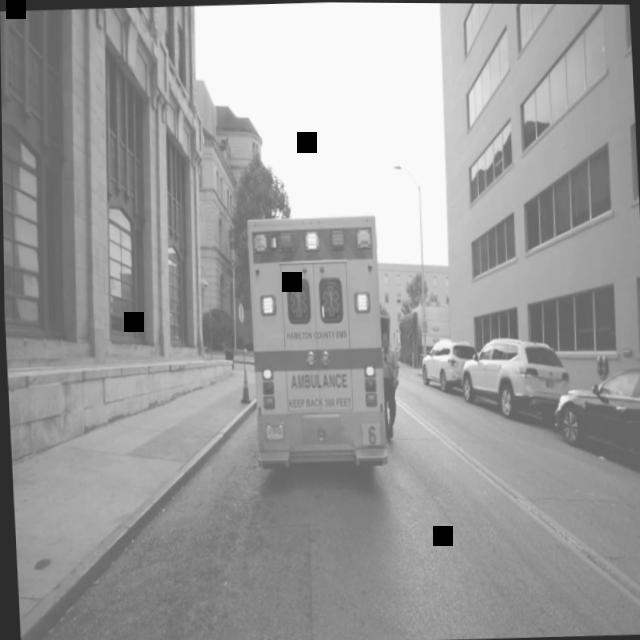NO-Mask: (380, 335, 388, 351)
